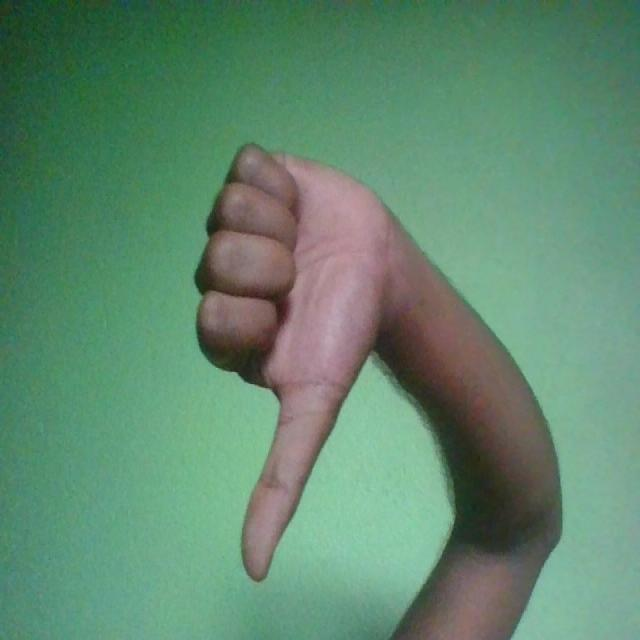Dislike: (195, 141, 395, 582)
